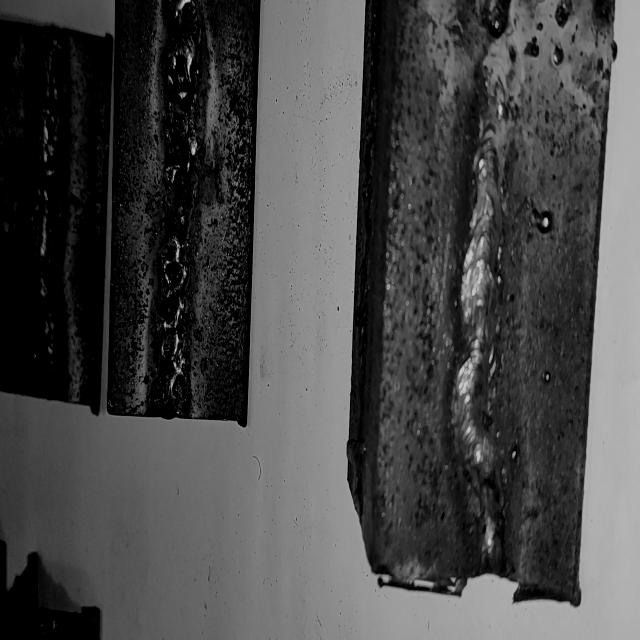Bad Weld: (164, 7, 199, 409), (31, 39, 59, 380)
Defect: (163, 14, 193, 412), (33, 45, 58, 389), (462, 0, 614, 45)
Good Weld: (456, 109, 502, 547)
